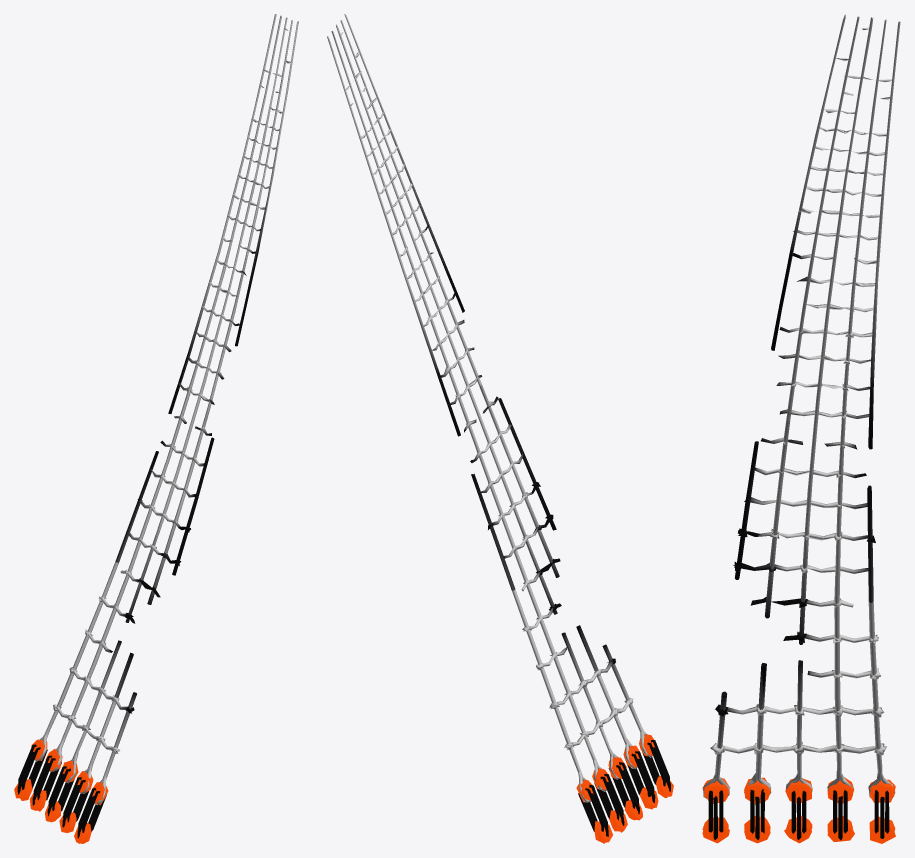
File: SM_Shroud02.fbx
The picture shows the model from 3 angles, left to right: view 1: azimuth 30°, elevation 25°; view 2: azimuth 150°, elevation 25°; view 3: azimuth 270°, elevation 25°; orthographic projection. The views are drawn at different scales.
Visible parts, largest first — view 1: SM_Shroud02_LOD0; view 2: SM_Shroud02_LOD0; view 3: SM_Shroud02_LOD0.
Part boxes in pixels (x1,y1,x2,y2): SM_Shroud02_LOD0: (14,14,298,843); SM_Shroud02_LOD0: (327,14,673,843); SM_Shroud02_LOD0: (702,14,900,843).
Bounding box in the file's own units: 561 × 257 × 1443.
